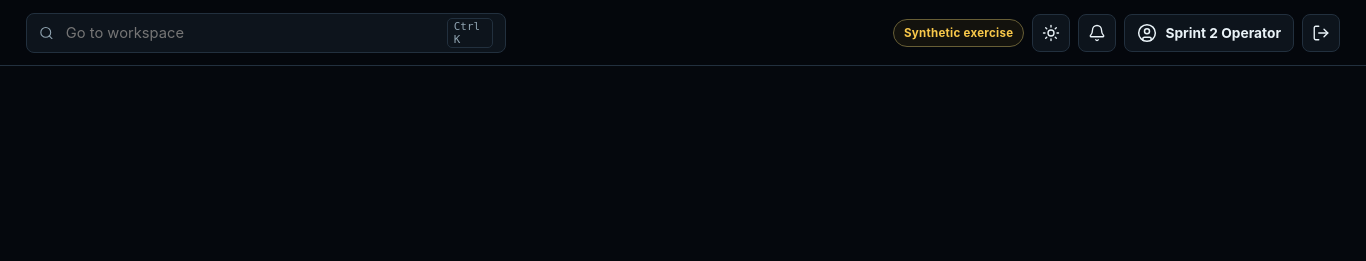
Test case: opens notifications and profile panels
Click the button named "Notifications" at (1097, 32), box top-left (1078, 14), bottom-right (1116, 52)
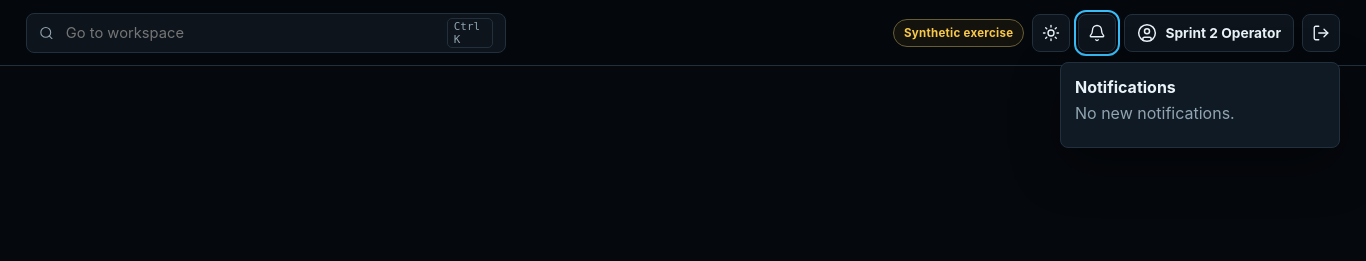
Expected: the element named "Notifications panel" shows "No new notifications.", top-left (1075, 102), bottom-right (1235, 122)
Click the button with aria-label "Profile" at (1209, 32), box top-left (1124, 14), bottom-right (1294, 52)
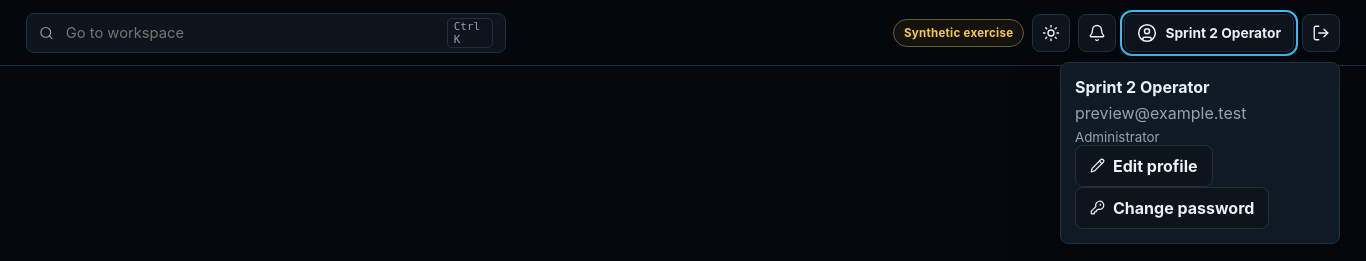
Expected: the element named "Profile panel" shows "preview@example.test", top-left (1075, 102), bottom-right (1246, 122)
